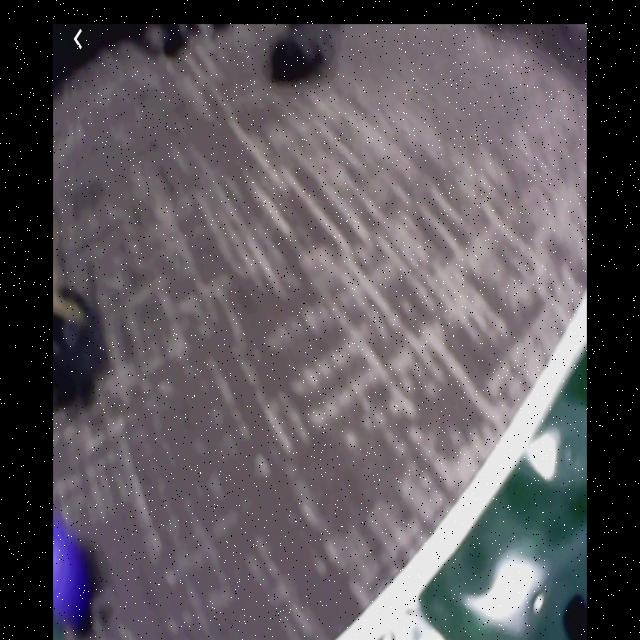ball: (54, 523, 92, 631)
